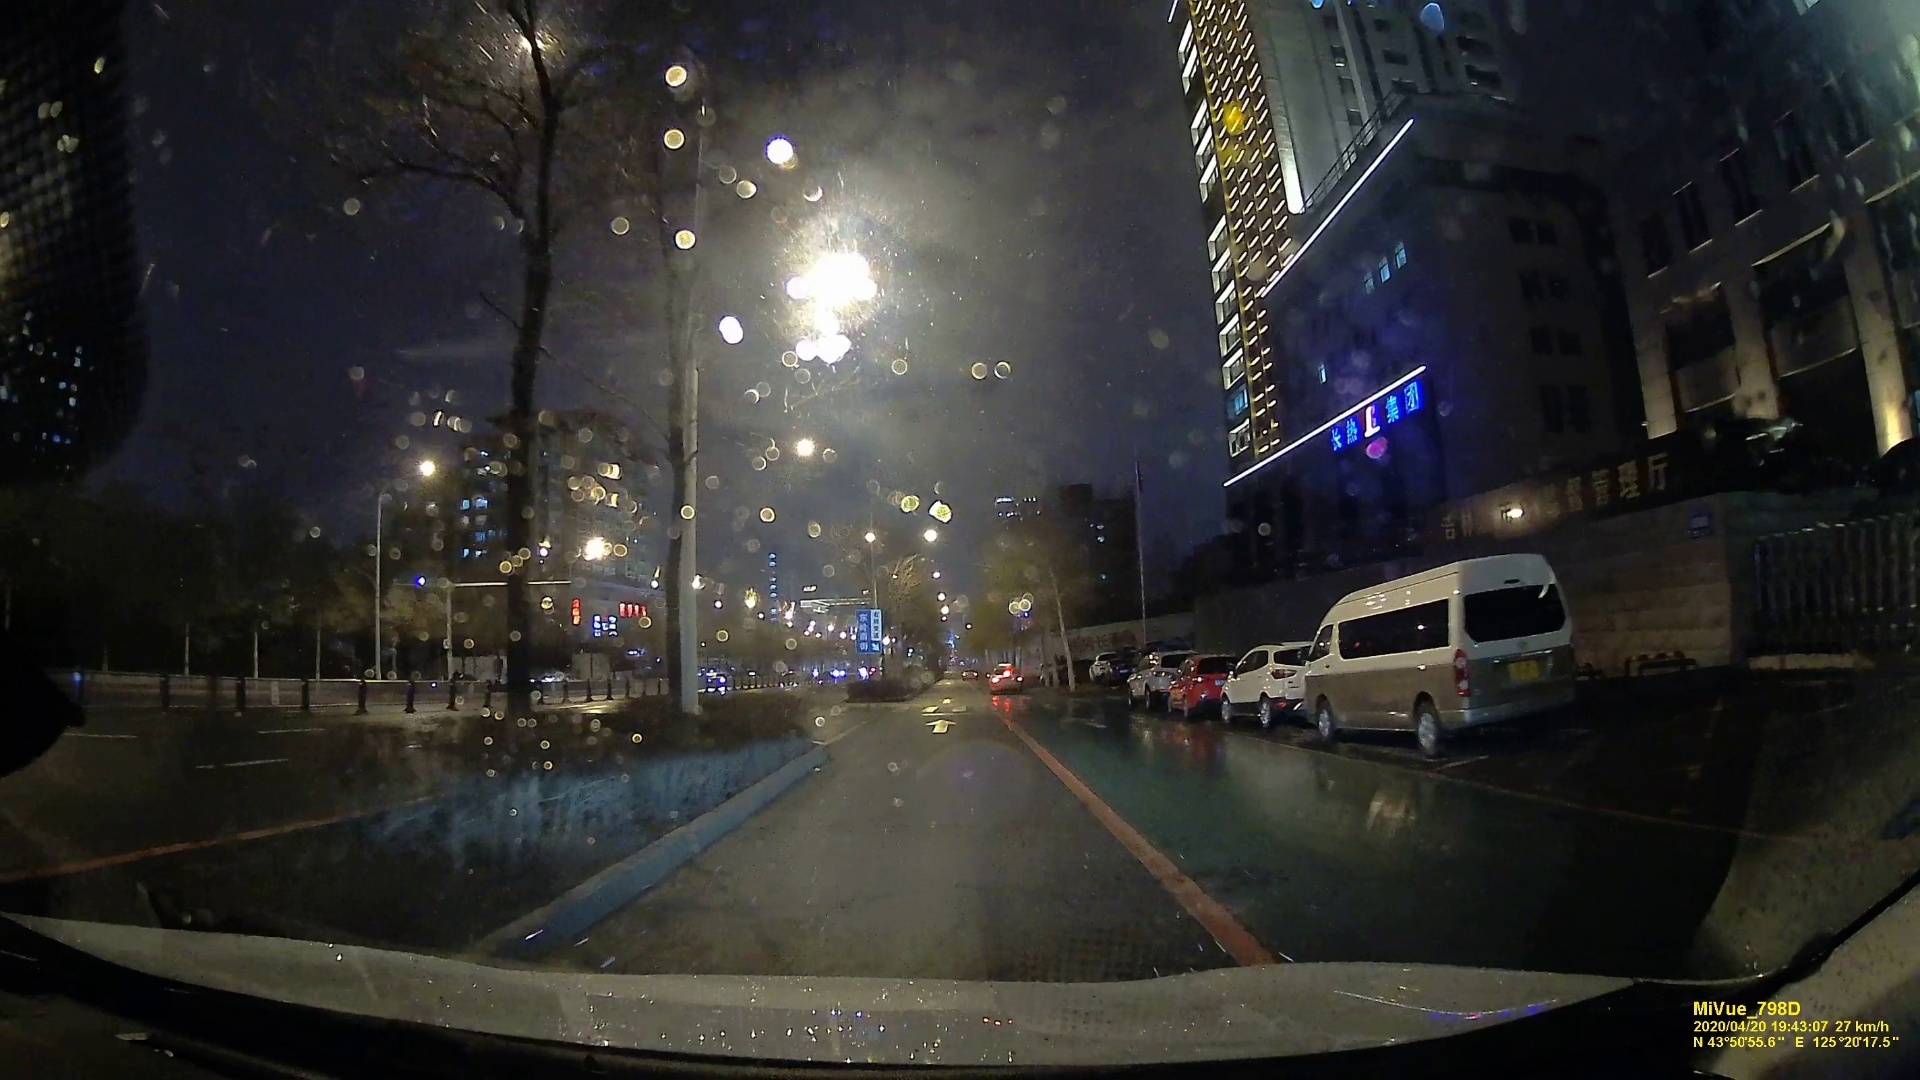minibus: (1298, 560, 1582, 754)
vehicle: (988, 665, 1022, 691)
